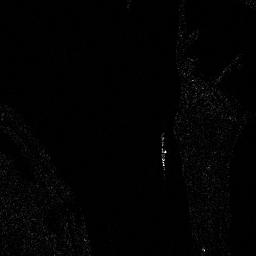ship: (158, 133, 169, 169)
